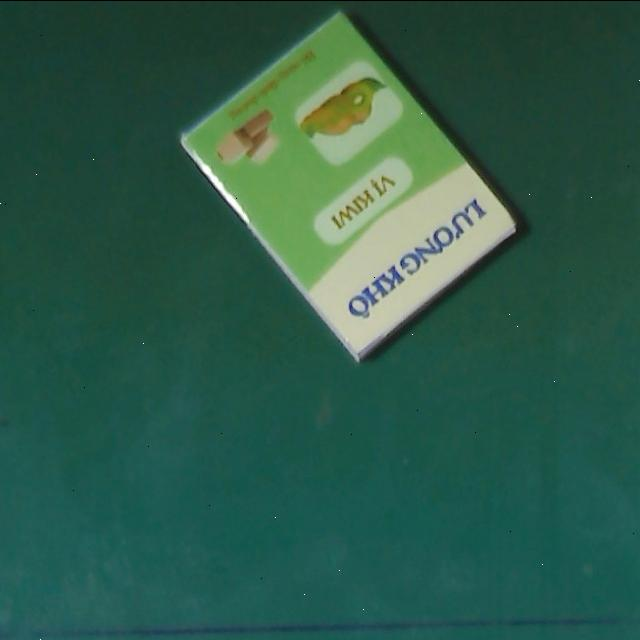kiwi: (176, 6, 524, 362)
